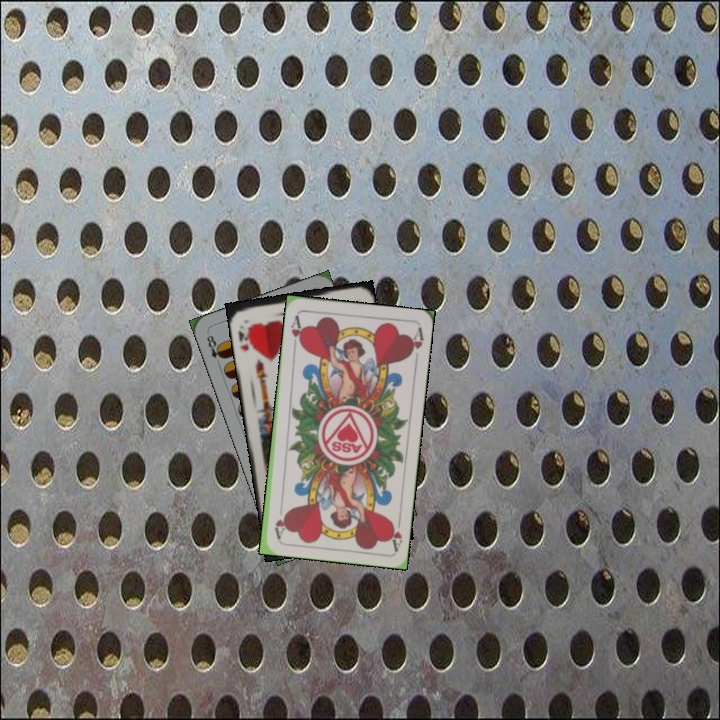E8: (202, 331, 227, 369)
HA: (385, 512, 405, 552), (287, 311, 306, 349)
HK: (234, 321, 256, 354)
